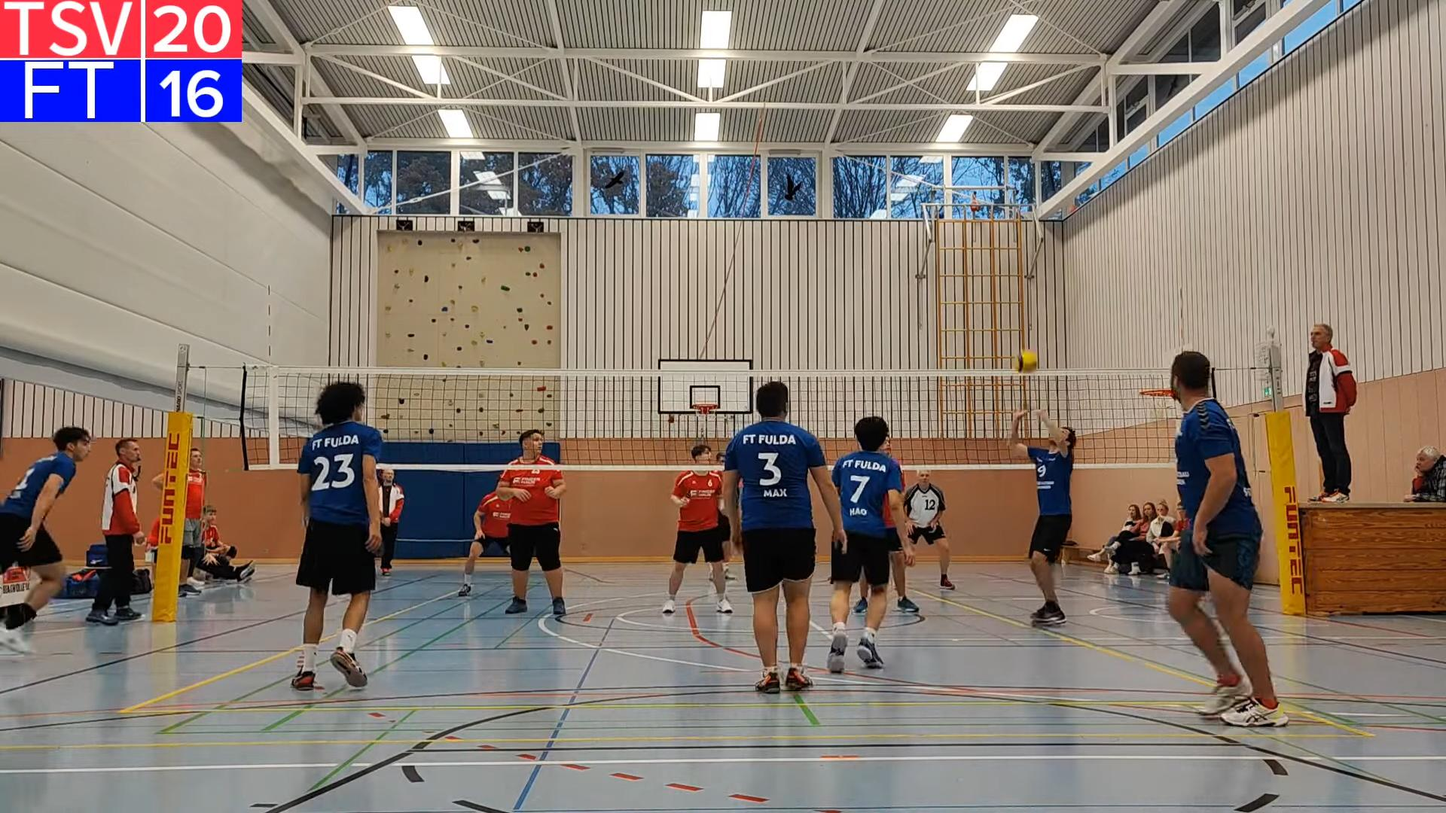Player: (1169, 352, 1287, 726), (723, 382, 844, 693), (291, 382, 382, 690), (827, 416, 914, 672), (0, 427, 90, 653), (496, 429, 566, 615), (662, 444, 732, 614), (903, 469, 954, 589), (458, 491, 512, 596), (886, 513, 920, 614), (716, 491, 736, 580)
Set: (1013, 410, 1076, 629)
ball: (1016, 349, 1040, 375)
